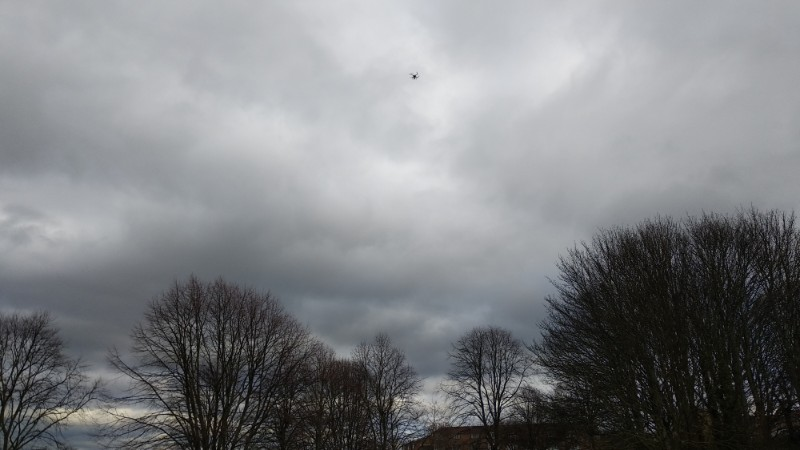drone: (410, 69, 421, 81)
